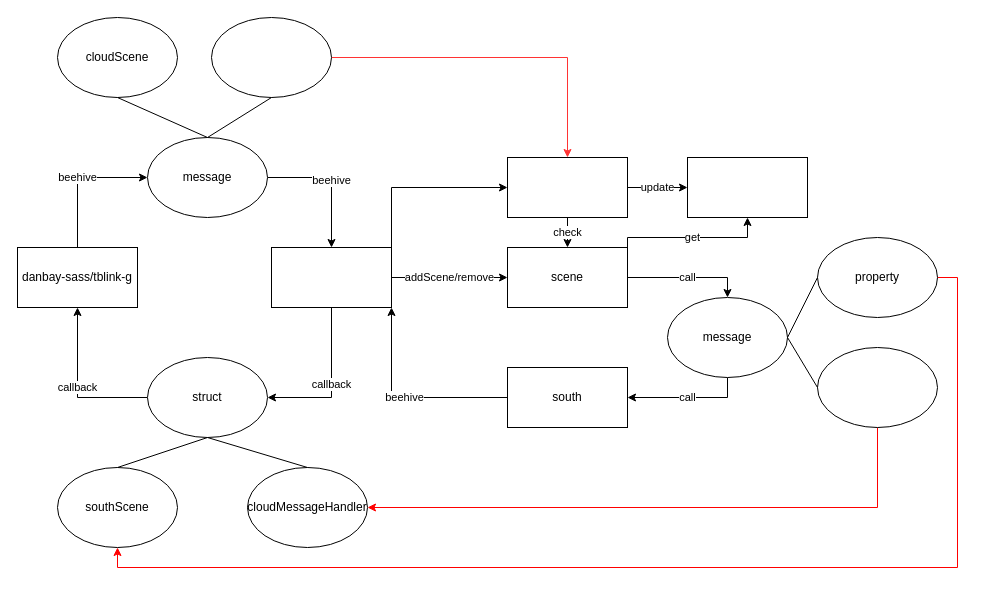
This 983x593 diagram has some shape labels left out. The centre of each missing label's shape, as x and y in pixels:
"cache" goes at [747,187].
"postMessageToCloud" goes at [271,57].
"service" goes at [877,387].
"watch" goes at [567,187].
"xengine" goes at [331,277].
